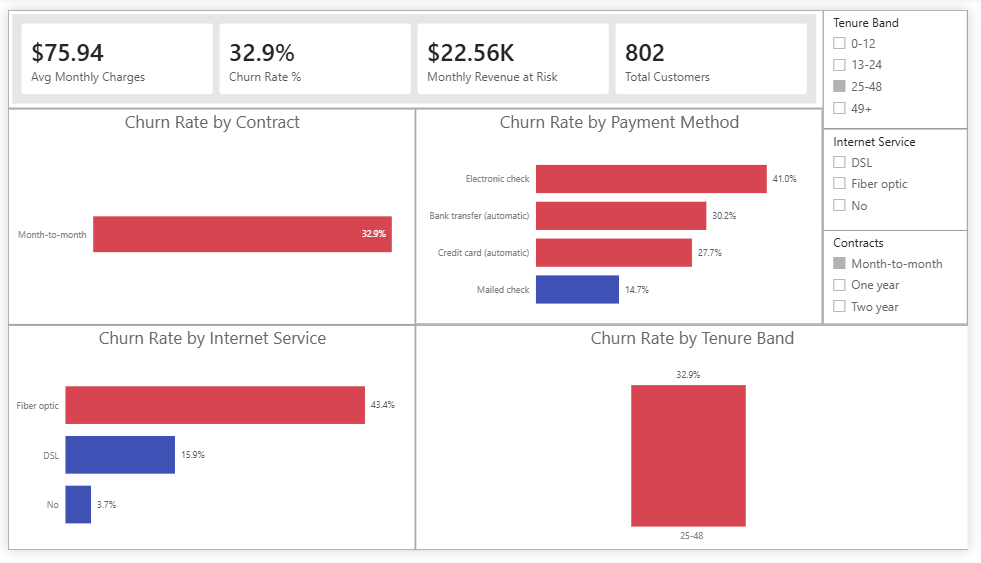

This screenshot's page, from the dashboard's own definition file:
{"tool":"powerbi","page":{"name":"Churn Dashboard","canvas":[1280,720],"ordinal":0},"visuals":[{"type":"cardVisual","fields":{"Data":["Telco-Customer-Churn.Avg Monthly Charges","Telco-Customer-Churn.Churn Rate %","Telco-Customer-Churn.monthly_revenue_at_risk","Telco-Customer-Churn.Total Customers"]},"box":[0,0,1087.1,131.4],"z":0},{"type":"clusteredBarChart","title":"Churn Rate by Contract","fields":{"Category":["Telco-Customer-Churn.contacts"],"Y":["Telco-Customer-Churn.Churn Rate %"]},"box":[0,131.7,543.3,288.3],"z":1000},{"type":"clusteredBarChart","title":"Churn Rate by Internet Service","fields":{"Category":["Telco-Customer-Churn.internet_service"],"Y":["Telco-Customer-Churn.Churn Rate %"]},"box":[0,420,543.3,300],"z":2000},{"type":"clusteredColumnChart","title":"Churn Rate by Tenure Band","fields":{"Category":["Telco-Customer-Churn.tenure_band"],"Y":["Telco-Customer-Churn.Churn Rate %"]},"box":[542.7,420,737.3,300],"z":3000},{"type":"clusteredBarChart","title":"Churn Rate  by Payment Method","fields":{"Y":["Telco-Customer-Churn.Churn Rate %"],"Category":["Telco-Customer-Churn.payment_method"]},"box":[543.6,131.8,542.7,287.3],"z":4000},{"type":"slicer","fields":{"Values":["Telco-Customer-Churn.contracts"]},"box":[1086.7,293.3,192.9,125.7],"z":5000},{"type":"slicer","fields":{"Values":["Telco-Customer-Churn.internet_service"]},"box":[1087.1,159,192.9,135.7],"z":6000},{"type":"slicer","fields":{"Values":["Telco-Customer-Churn.tenure_band"]},"box":[1087.1,0.5,192.9,158.6],"z":7000},{"type":"textbox","box":[335,0,13.3,65],"z":8000}]}

Visuals, with their boxes in screenshot pixels (x1, y1, x2, y2), scaled from the page's 1280x720 canvas onto the 981x563 screenshot:
cardVisual - Telco-Customer-Churn.Avg Monthly Charges x Telco-Customer-Churn.Churn Rate %: 0,0,833,103
"Churn Rate by Contract" clusteredBarChart: 0,103,416,328
"Churn Rate by Internet Service" clusteredBarChart: 0,328,416,562
"Churn Rate by Tenure Band" clusteredColumnChart: 416,328,980,562
"Churn Rate  by Payment Method" clusteredBarChart: 417,103,833,328
slicer - Telco-Customer-Churn.contracts: 833,229,980,328
slicer - Telco-Customer-Churn.internet_service: 833,124,980,230
slicer - Telco-Customer-Churn.tenure_band: 833,0,980,124
textbox: 257,0,267,51
